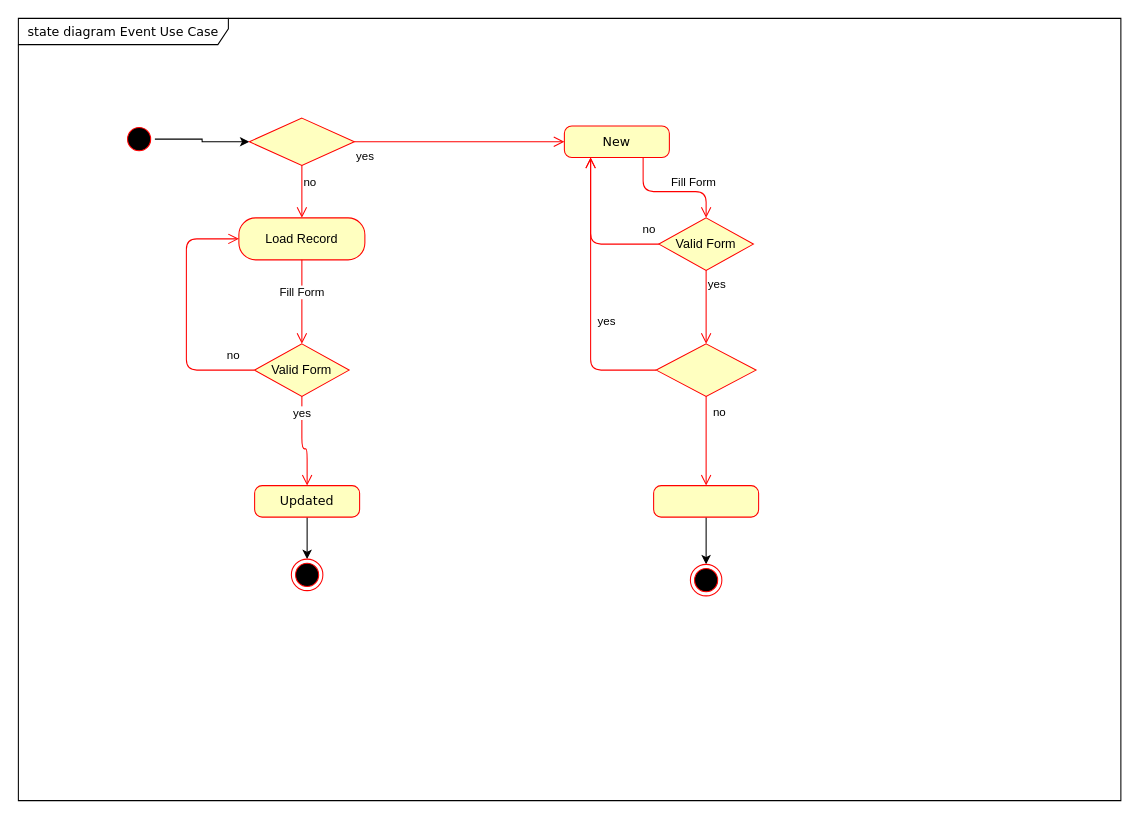
The diagram is 1139 pixels wide and 819 high, and some of its shapes have lost their labels. Each missing label, with the centre of its shape:
Already Exists: pixel 705 369
New Record: pixel 301 141
Saved: pixel 706 501
